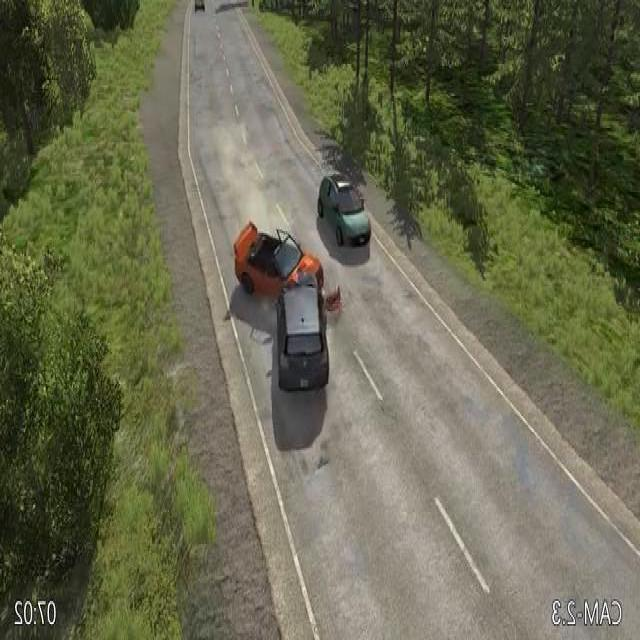accident: (228, 216, 330, 398)
